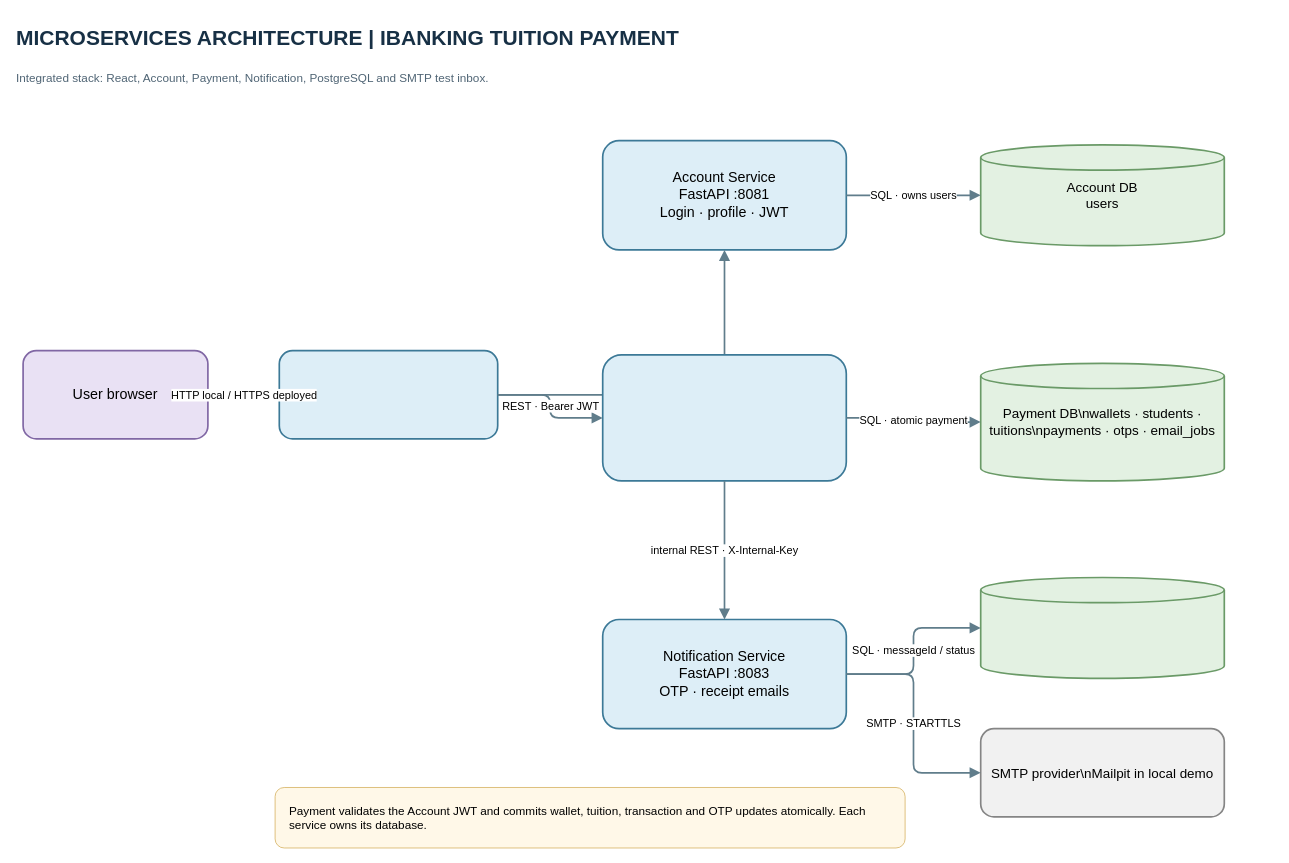
Some shapes in this 1289 by 863 pixel diagram are drawn without their labels. The shapes that lost their labels are listed below. From the top down, each one's box as (x1, y1, x2, y2) in pixels, then its label:
(278, 349, 498, 439): React frontend :5173
(601, 354, 847, 481): Payment Service\nFastAPI :8082\nWallet · tuition · OTP · transactions
(979, 576, 1225, 679): Notification DB email_messages
